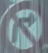Don't turn right: (4, 1, 45, 51)
